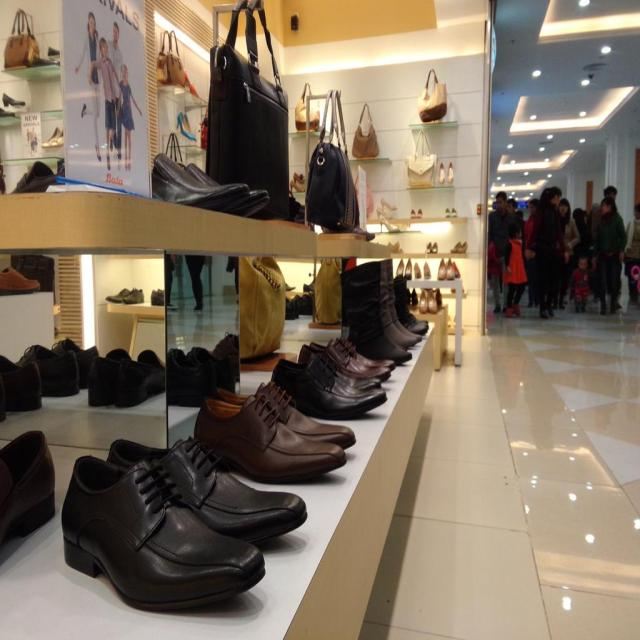Person: (484, 185, 640, 320), (87, 34, 120, 172), (73, 10, 101, 164), (118, 64, 143, 168), (106, 21, 122, 161)
